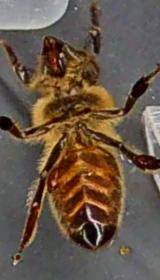varroa_mite: (35, 157, 70, 202)
